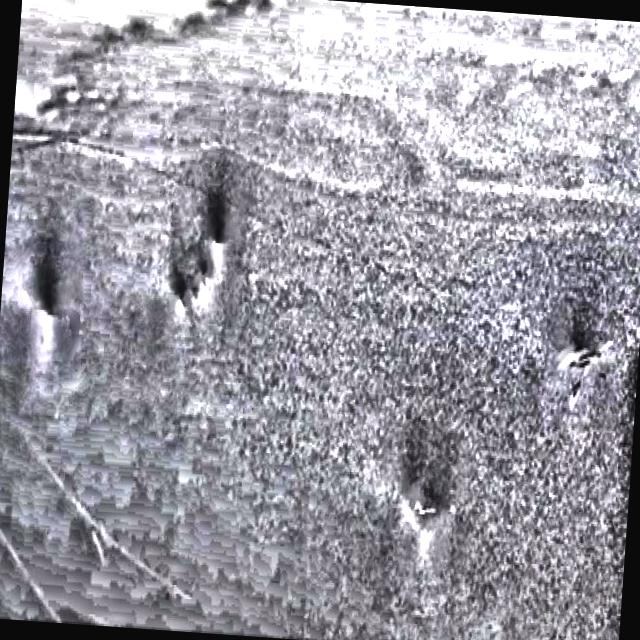dent: (372, 412, 486, 560), (156, 173, 234, 324), (0, 224, 66, 333)
